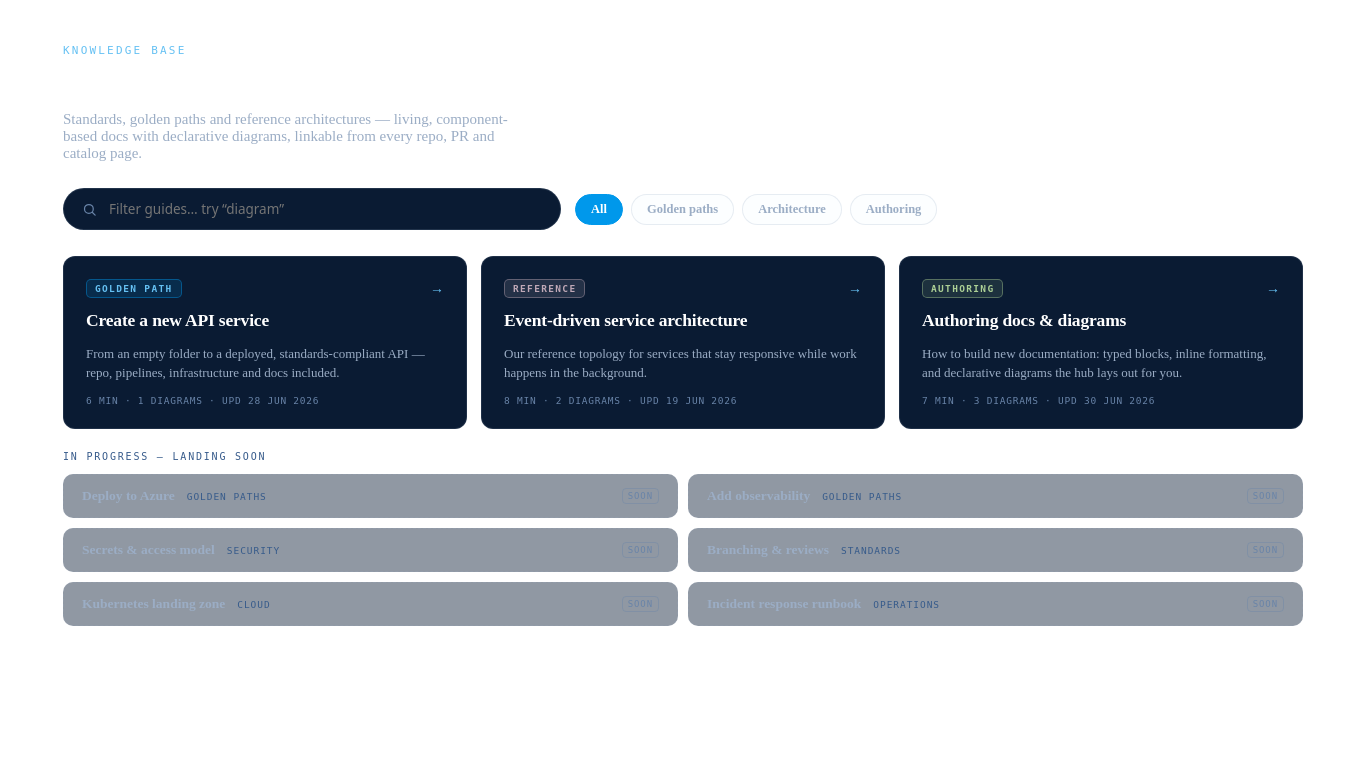
Test: KbHomeScreen › shows the exact empty state only when a query matches nothing
The image size is (1366, 768).
Expected: the text "No guides match — try “API”, “event” or “diagram”." is not shown
Type "zzz-no-such-guide" into the field with placeholder "Filter guides… try “diagram”". click: (324,209)
box: [107, 199, 542, 219]
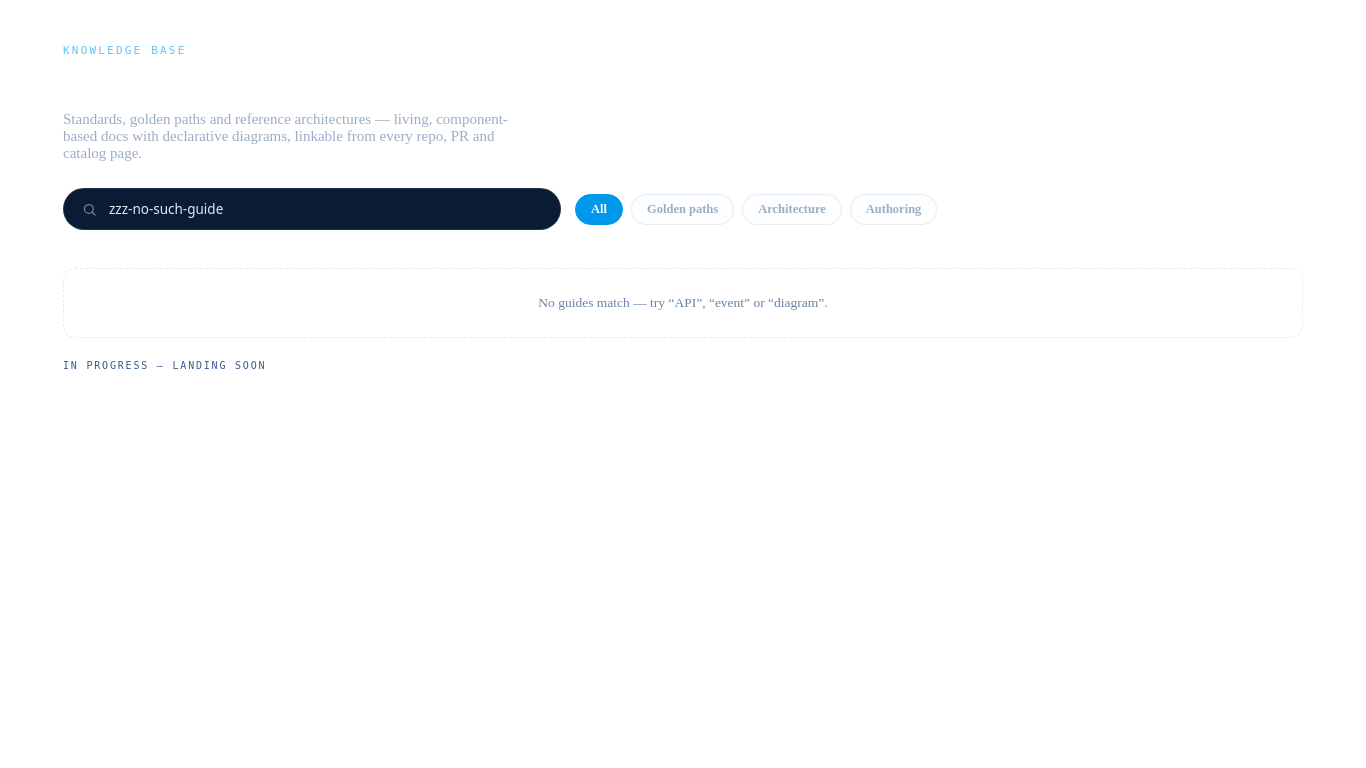
Expected: the text "No guides match — try “API”, “event” or “diagram”." is shown, [63, 268, 1303, 338]
